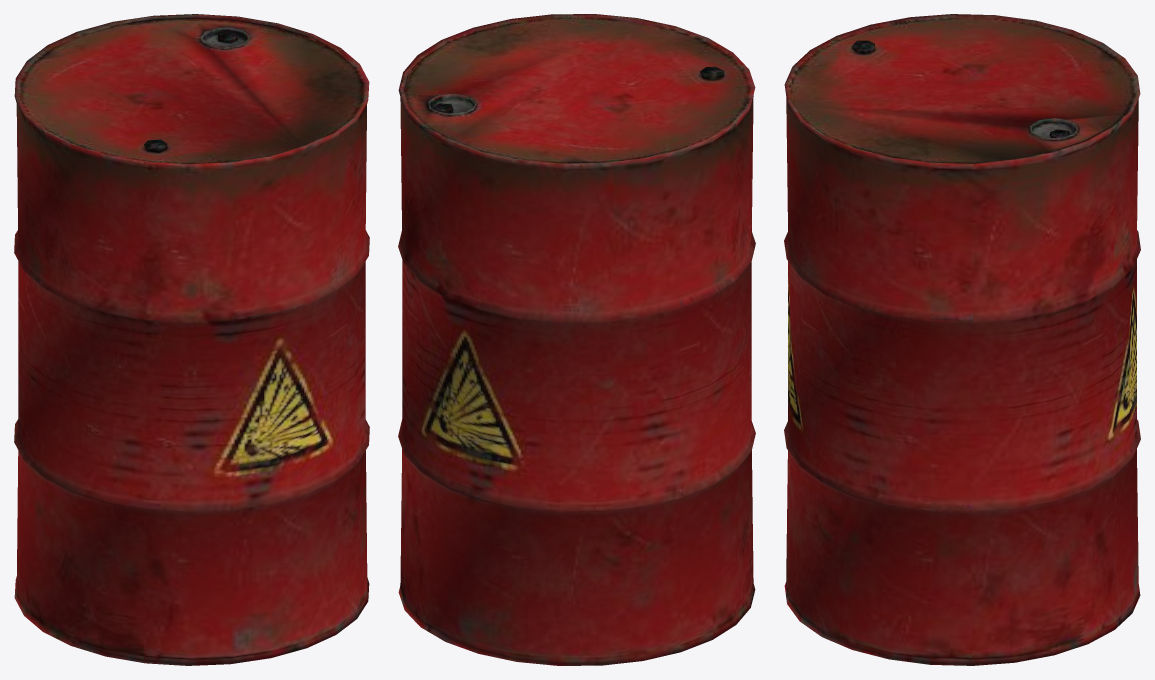
The model's file is barrel.glb.
3 views of the same model, side by side, from view 1: azimuth 30°, elevation 25°; view 2: azimuth 150°, elevation 25°; view 3: azimuth 270°, elevation 25° (orthographic).
Visible parts, largest first — view 1: lo; view 2: lo; view 3: lo.
Part boxes in pixels (left/top/right/bottom): lo: left=14, top=14, right=369, bottom=665; lo: left=398, top=14, right=755, bottom=665; lo: left=784, top=14, right=1140, bottom=665.
Size of the model in its own units: 0.5638 by 0.8792 by 0.5638.
Materials: 1 (1 with a texture image).
